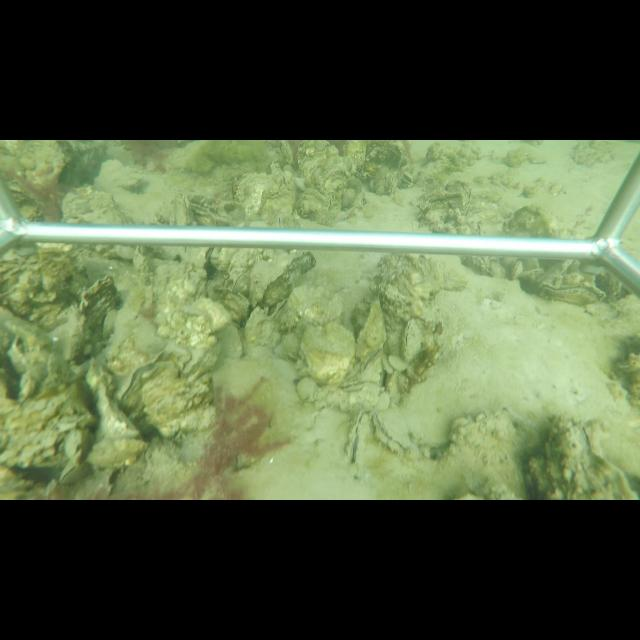Oyster-Closed: (250, 249, 320, 307), (91, 370, 141, 442), (301, 322, 356, 384), (356, 301, 390, 359), (401, 316, 426, 364), (217, 322, 249, 358), (353, 349, 383, 380), (169, 192, 192, 226), (58, 461, 86, 484), (334, 381, 385, 392), (509, 260, 524, 280)
Oyster-Open: (116, 349, 184, 411), (372, 407, 413, 460), (345, 413, 370, 483), (535, 280, 607, 304)
